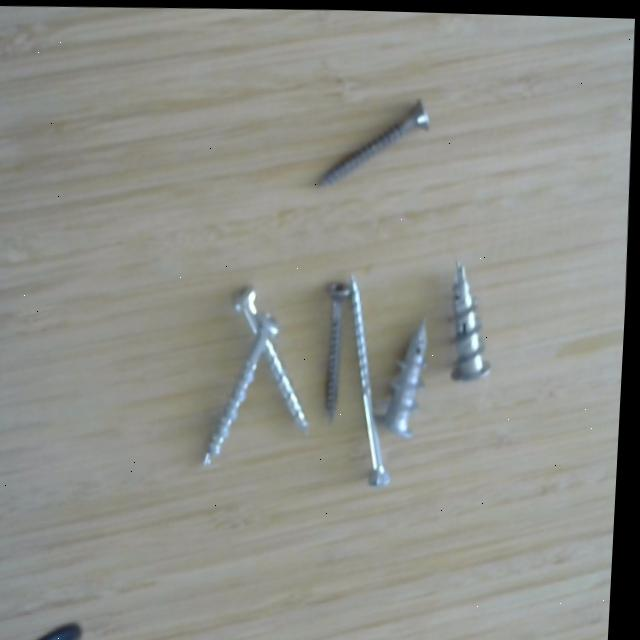Black screw: (311, 87, 438, 192), (321, 274, 357, 421)
Long screw: (350, 266, 403, 493)
Medium screw: (228, 276, 322, 439), (200, 306, 291, 468)
Short screw: (373, 302, 437, 443), (449, 248, 497, 386)
